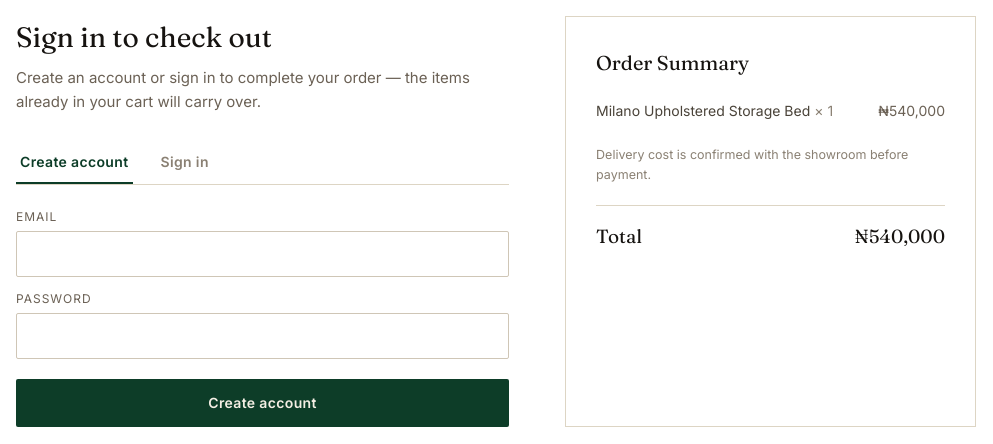
Test: CheckoutView — anonymous session › shows a check-your-email state after signup, not the real form — this project requires confirmation before is_anonymous flips
The width and height of the screenshot is (993, 444).
Expected: the heading "Sign in to check out" is shown, [16,20,272,54]
In the field labelled "Email": point(263, 254) [16,231,509,277], type "test@example.com"
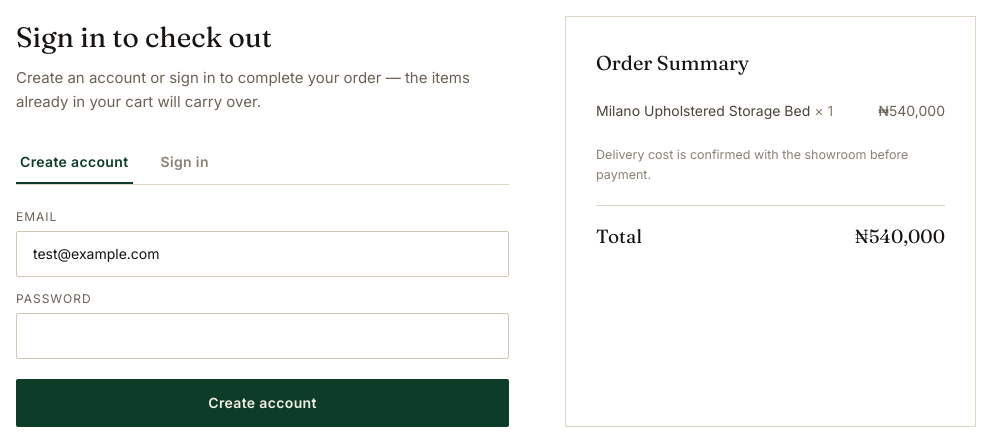
In the password field labelled "Password": point(263, 336) [16,313,509,359], type "password123"
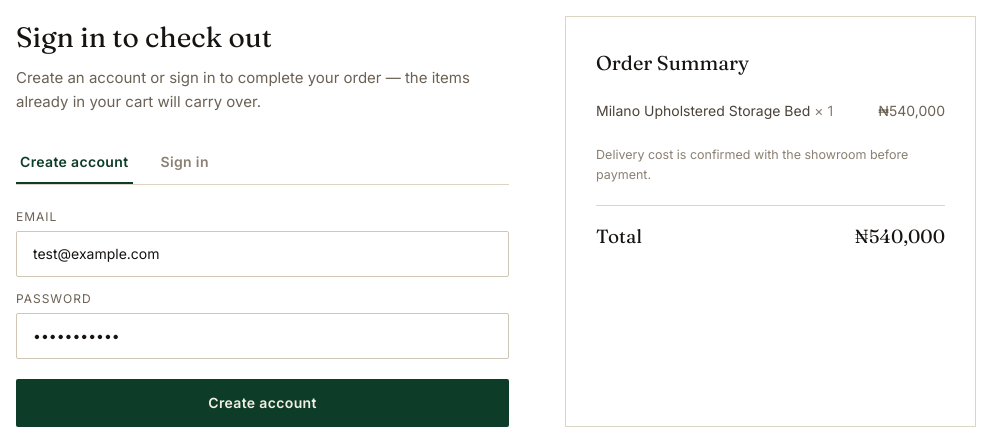
Click the button "Create account" below "Password": point(263, 403) [16,379,509,427]
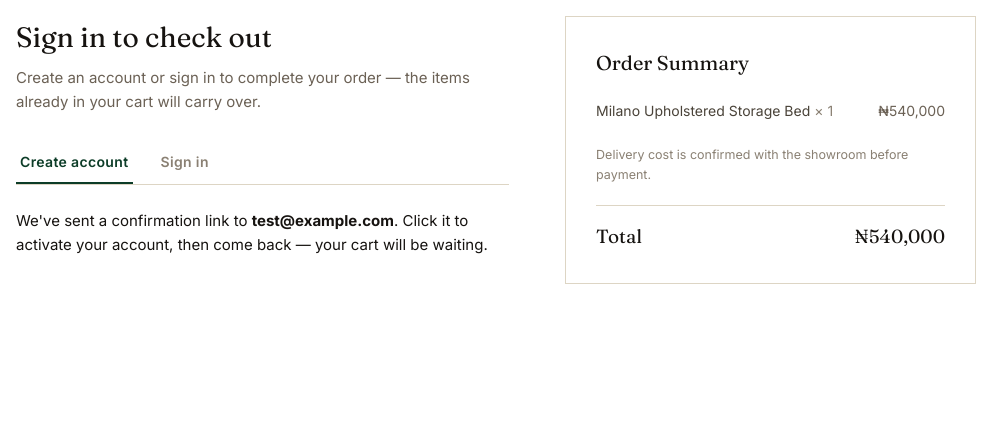
Now the text "We've sent a confirmation link to" is shown, box [16,211,252,230]
